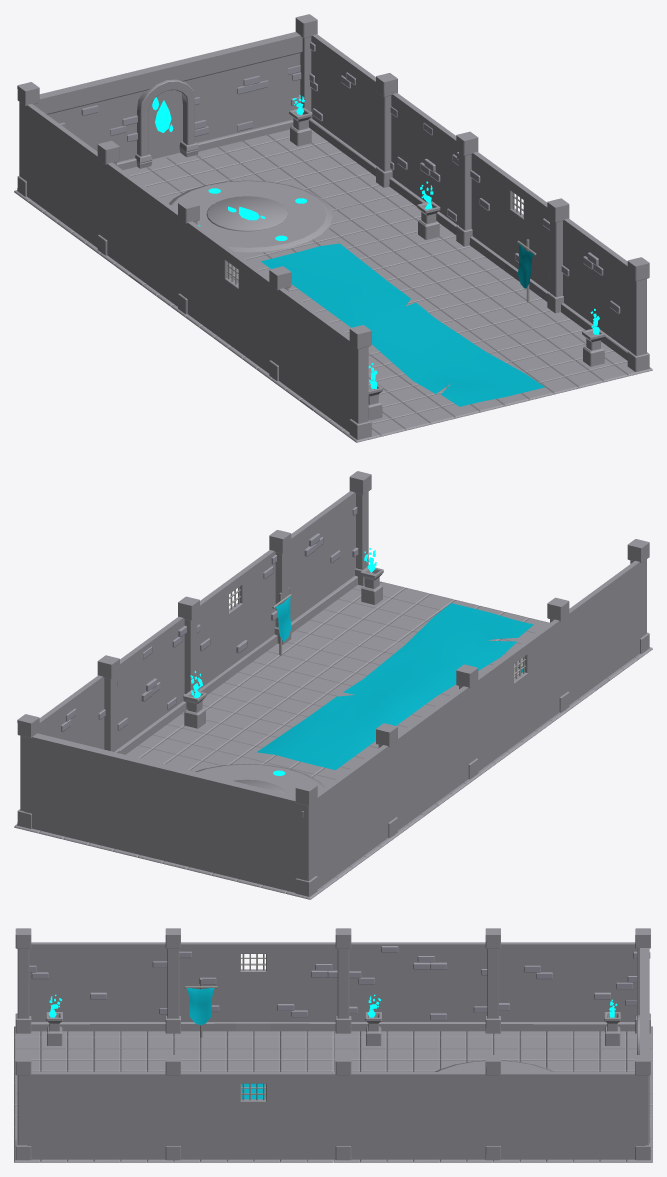
File: game_level_design_-_water_stone_dungeon.glb
3 renders of one model, top to bottom at view 1: azimuth 30°, elevation 25°; view 2: azimuth 150°, elevation 25°; view 3: azimuth 270°, elevation 25°, orthographic. The views are drawn at different scales.
Parts seen in each view (by area): view 1: Object_6, Object_5, Object_2, Object_7, Object_9, Object_8, Object_10; view 2: Object_6, Object_5, Object_2, Object_7, Object_8, Object_9; view 3: Object_6, Object_5, Object_9, Object_7, Object_8, Object_3, Object_4, Object_10.
Part boxes in pixels (box(x1,y1,x2,y2)): Object_6: box(17, 34, 651, 440); Object_5: box(15, 14, 649, 439); Object_2: box(261, 243, 544, 406); Object_7: box(185, 250, 652, 442); Object_9: box(59, 42, 620, 313); Object_8: box(14, 131, 470, 316); Object_10: box(152, 95, 599, 388); Object_6: box(38, 491, 651, 888); Object_5: box(15, 471, 649, 897); Object_2: box(257, 603, 533, 769); Object_7: box(203, 581, 652, 774); Object_8: box(14, 707, 481, 899); Object_9: box(61, 507, 358, 817); Object_6: box(14, 942, 650, 1160); Object_5: box(14, 928, 652, 1160); Object_9: box(29, 946, 650, 1020); Object_7: box(14, 1027, 333, 1162); Object_8: box(333, 1027, 652, 1162); Object_3: box(186, 988, 214, 1025); Object_4: box(185, 954, 265, 1100); Object_10: box(49, 994, 617, 1017).
Bounding box in the file's own units: 23.88 × 8.28 × 47.78.
